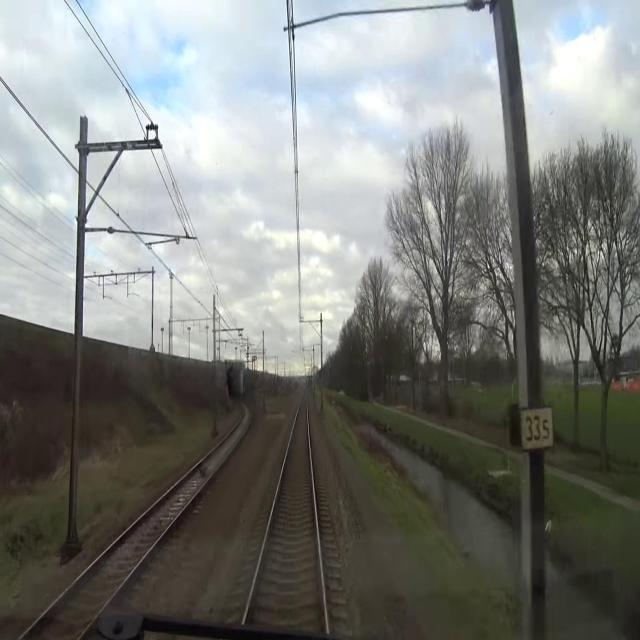rail-track: (26, 404, 249, 639), (247, 397, 324, 630)
